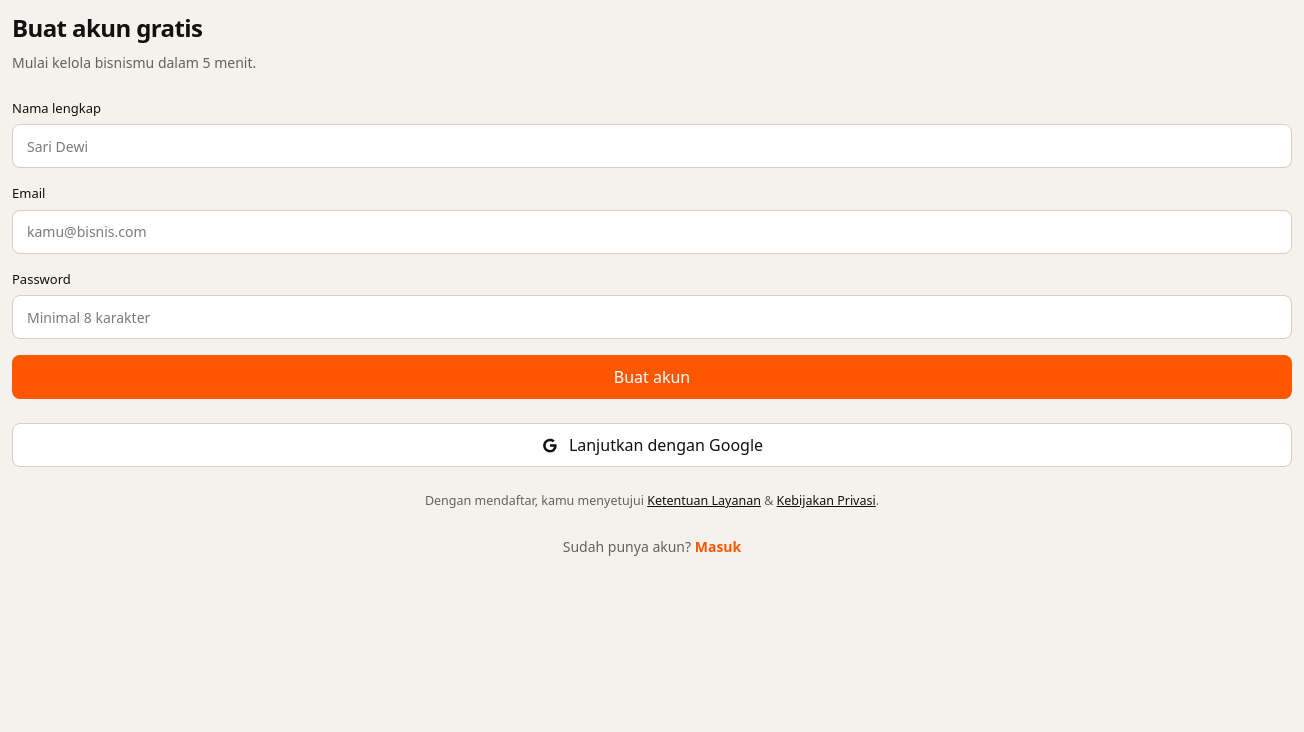
it: SignupForm › surfaces the error message on signup failure
This screenshot has width=1304, height=732.
Type "New User" into the field with placeholder "Sari Dewi" at (652,146), box [12,124,1292,168]
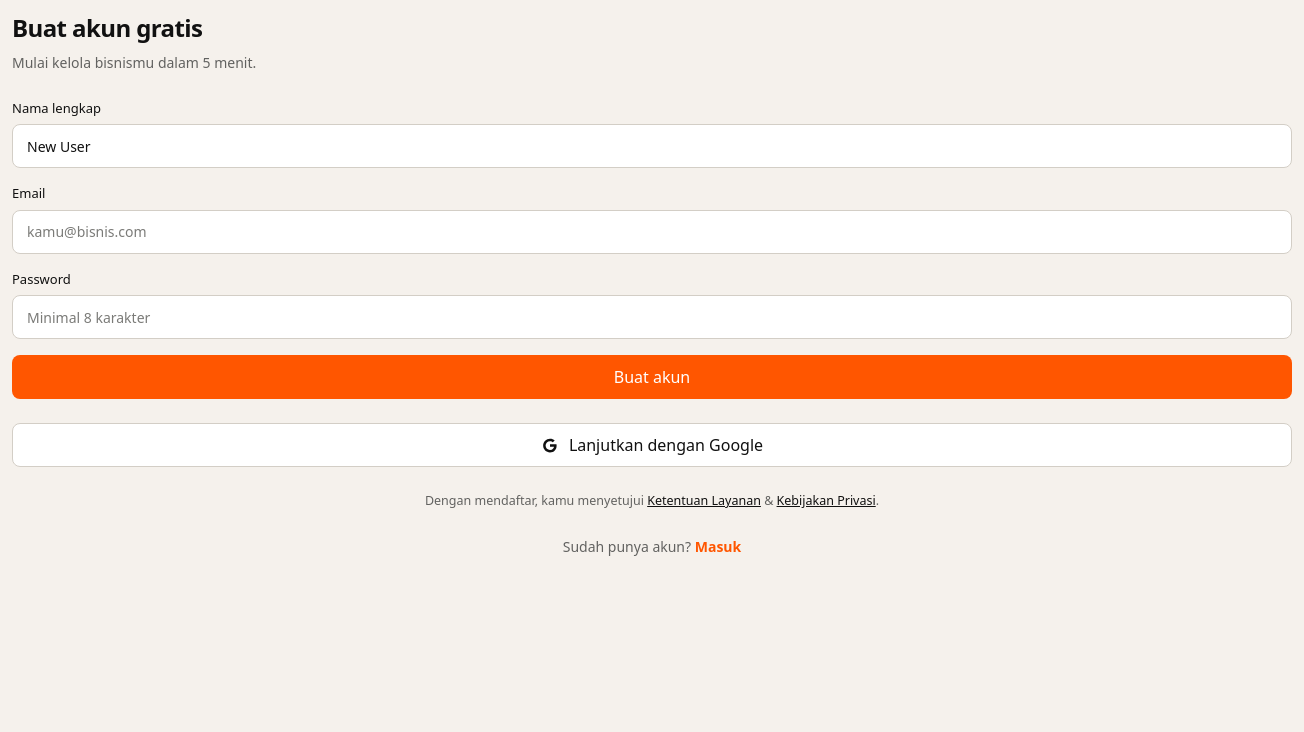
Type "new@user.com" into the field with placeholder "kamu@bisnis.com" at (652,232), box [12,210,1292,254]
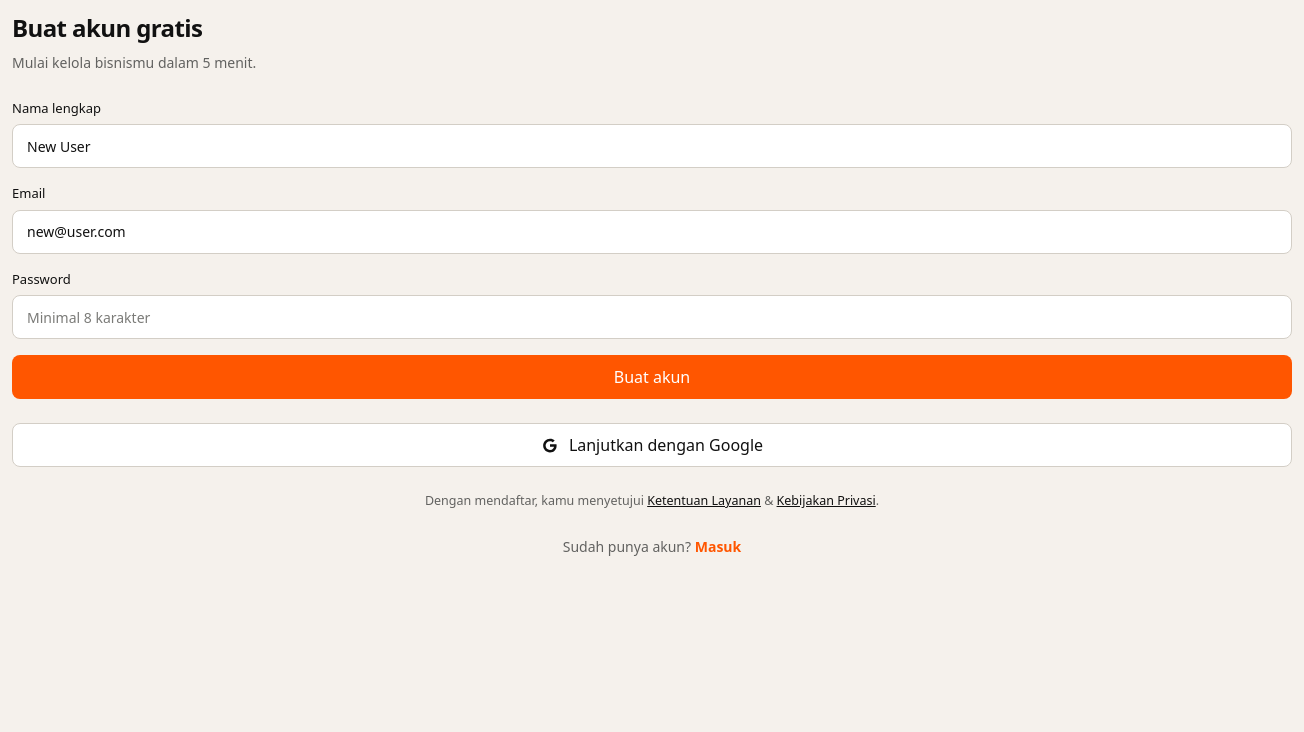
Type "Test123456!" into the password field with placeholder "Minimal 8 karakter" at (652,317), box [12,295,1292,339]
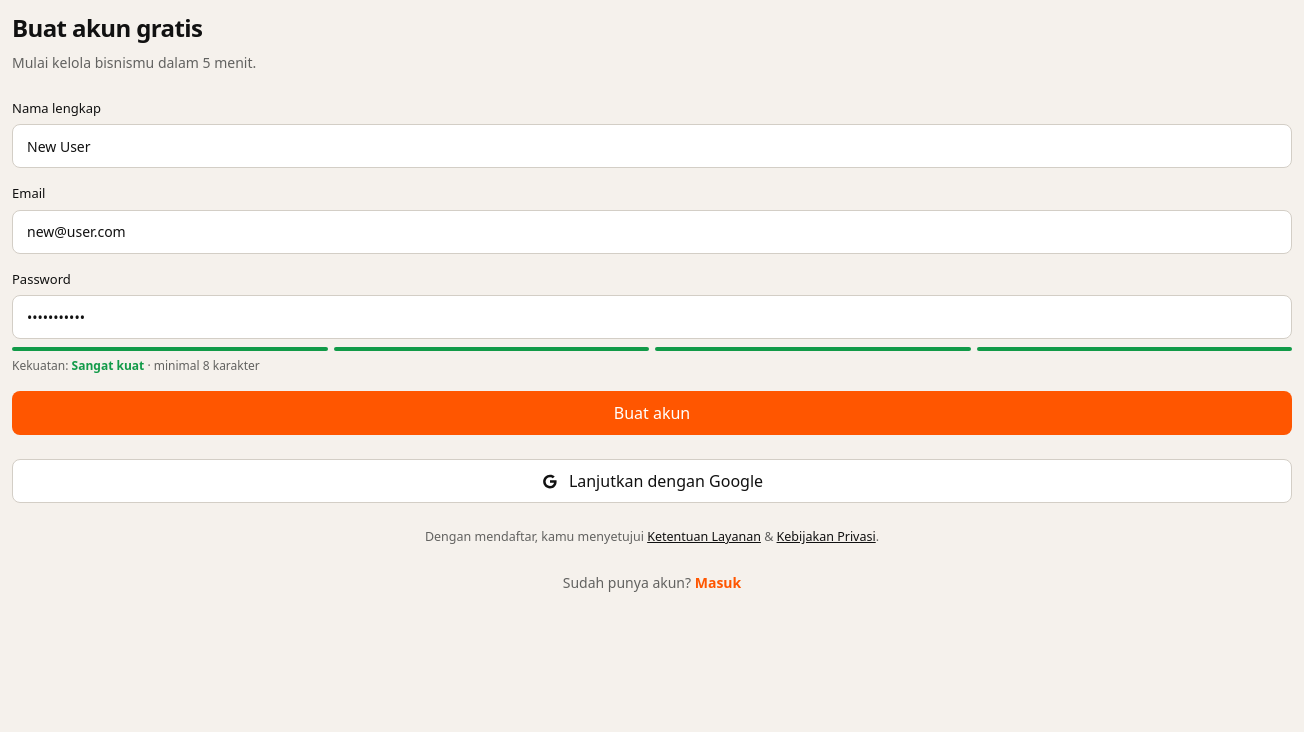
Click the button "Buat akun" at (652,413), box [12,391,1292,435]
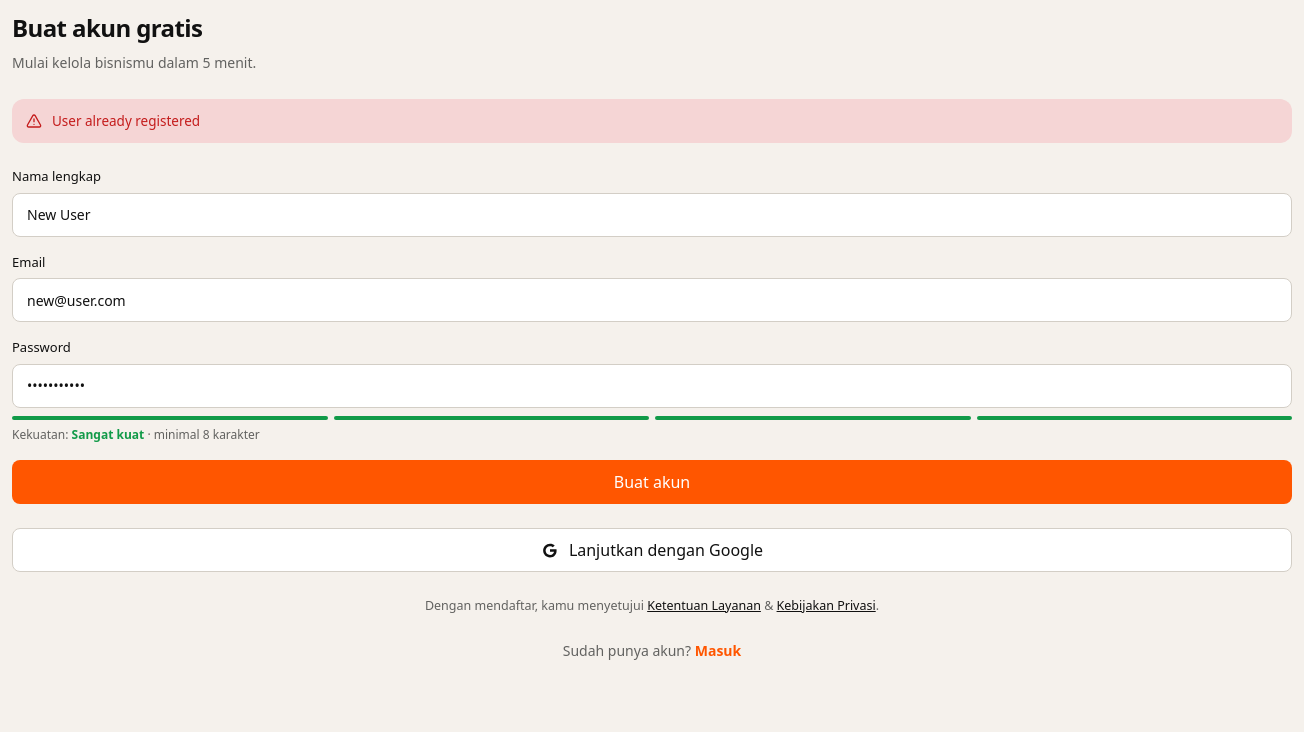
Check: the text "User already registered" is shown, box [52,111,200,131]
